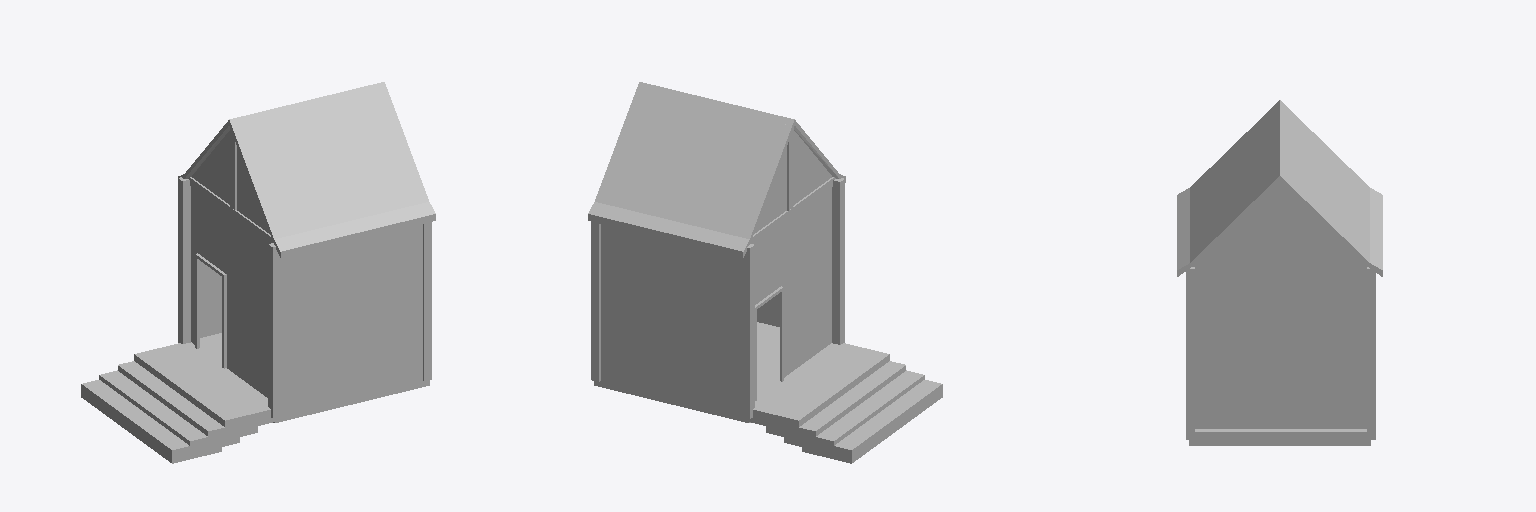
Rendered from house.obj.
The picture shows the model from 3 angles: view 1: azimuth 30°, elevation 25°; view 2: azimuth 150°, elevation 25°; view 3: azimuth 270°, elevation 25°; orthographic projection.
Visible parts, largest first — view 1: Cube.001; view 2: Cube.001; view 3: Cube.001.
Part boxes in pixels (left/top/right/bottom): Cube.001: left=81, top=82, right=435, bottom=463; Cube.001: left=588, top=82, right=942, bottom=463; Cube.001: left=1177, top=100, right=1382, bottom=445.
Size of the model in its own units: 23.66 by 25.02 by 16.27.